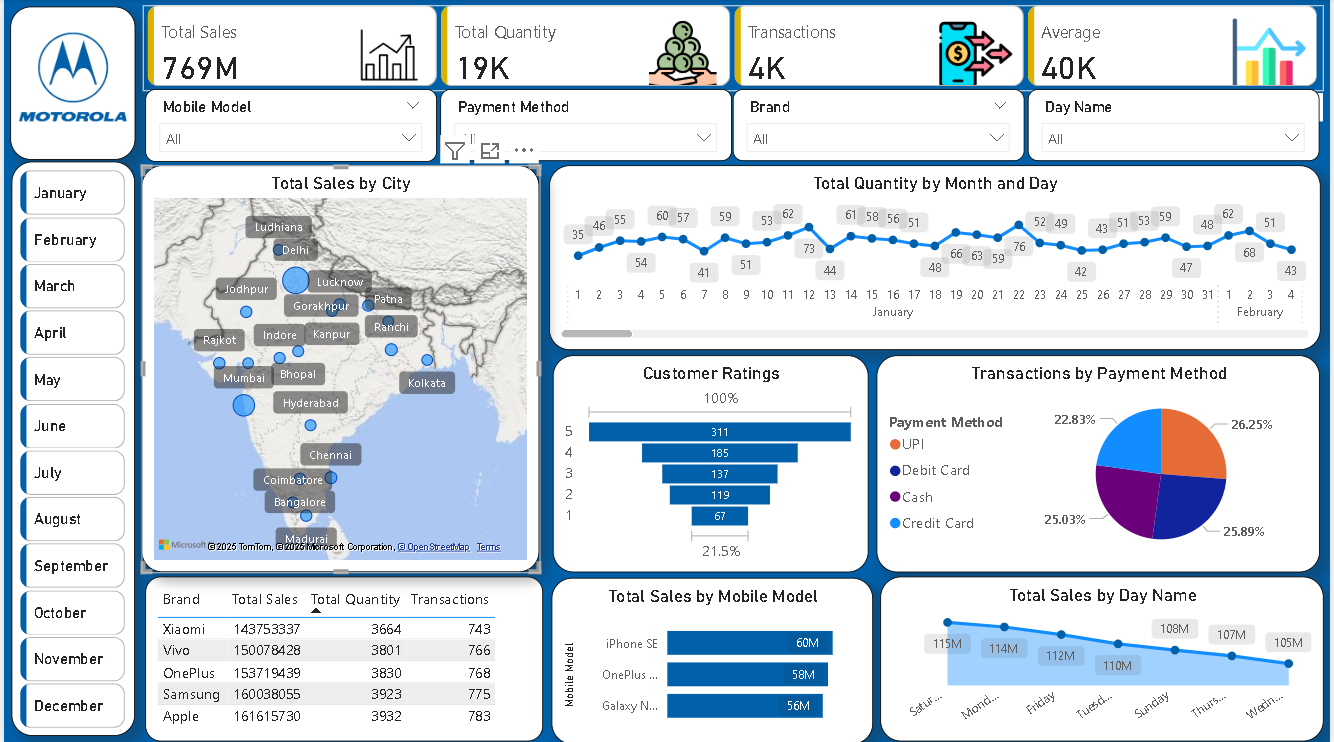

What the dashboard file says about the page in this screenshot:
{"tool":"powerbi","page":{"name":"Page 1","canvas":[1280,720],"ordinal":0},"visuals":[{"type":"shape","box":[5.5,6.9,120.8,148.2],"z":0},{"type":"image","box":[9.6,16.5,113.9,116.6],"z":1000},{"type":"shape","box":[6.9,156.4,119.4,554.4],"z":2000},{"type":"advancedSlicerVisual","fields":{"Values":["Sales_Data.Date.Variation.Date Hierarchy.Month"]},"box":[11,160.5,111.1,548.9],"z":3000},{"type":"cardVisual","fields":{"Data":["Sales_Data.Total Sales","Sales_Data.Total Quantity","Sales_Data.Transactions","Sales_Data.Average"]},"box":[134,5.6,1140.1,83.7],"z":4000},{"type":"map","fields":{"Category":["Sales_Data.City"],"Size":["Sales_Data.Total Sales"]},"box":[132.9,160.8,384.1,393.1],"z":5000},{"type":"lineChart","fields":{"Y":["Sales_Data.Total Quantity"],"Category":["Sales_Data.Date.Variation.Date Hierarchy.Month","Sales_Data.Date.Variation.Date Hierarchy.Day"]},"box":[525.9,160.8,744.8,178.7],"z":6000},{"type":"clusteredBarChart","fields":{"Category":["Sales_Data.Mobile Model"],"Y":["Sales_Data.Total Sales"]},"box":[528.3,558.5,310.1,160.5],"z":7000},{"type":"pieChart","fields":{"Category":["Sales_Data.Payment Method"],"Y":["Sales_Data.Transactions"]},"box":[842.5,344.4,428.1,209.9],"z":8000},{"type":"funnel","title":"Customer Ratings","fields":{"Category":["Sales_Data.Customer Ratings"],"Y":["Sum(Sales_Data.Customer Ratings)"]},"box":[529.7,344.4,304.6,209.9],"z":9000},{"type":"areaChart","fields":{"Category":["Sales_Data.Day Name"],"Y":["Sales_Data.Total Sales"]},"box":[845.3,557.1,428.1,159.2],"z":10000},{"type":"tableEx","fields":{"Values":["Sales_Data.Brand","Sales_Data.Total Sales","Sales_Data.Total Quantity","Sales_Data.Transactions"]},"box":[135.8,557.1,384.2,159.2],"z":11000},{"type":"slicer","fields":{"Values":["Sales_Data.Mobile Model"]},"box":[136.2,87.1,281.4,70.3],"z":12000},{"type":"slicer","fields":{"Values":["Sales_Data.Payment Method"]},"box":[421,87.1,281.4,69.2],"z":13000},{"type":"slicer","fields":{"Values":["Sales_Data.Brand"]},"box":[703.5,87.1,281.4,69.2],"z":14000},{"type":"slicer","fields":{"Values":["Sales_Data.Day Name"]},"box":[988.2,87.1,281.4,69.2],"z":15000}]}

Visuals, with their boxes in screenshot pixels (x1, y1, x2, y2), scaled from the page's 1280x720 canvas onto the 1334x742 screenshot:
shape: Rect(6, 7, 132, 160)
image: Rect(10, 17, 129, 137)
shape: Rect(7, 161, 132, 733)
advancedSlicerVisual - Sales_Data.Date.Variation.Date Hierarchy.Month: Rect(11, 165, 127, 731)
cardVisual - Sales_Data.Total Sales x Sales_Data.Total Quantity: Rect(140, 6, 1328, 92)
map - Sales_Data.City x Sales_Data.Total Sales: Rect(139, 166, 539, 571)
lineChart - Sales_Data.Total Quantity x Sales_Data.Date.Variation.Date Hierarchy.Month: Rect(548, 166, 1324, 350)
clusteredBarChart - Sales_Data.Mobile Model x Sales_Data.Total Sales: Rect(551, 576, 874, 741)
pieChart - Sales_Data.Payment Method x Sales_Data.Transactions: Rect(878, 355, 1324, 571)
"Customer Ratings" funnel: Rect(552, 355, 869, 571)
areaChart - Sales_Data.Day Name x Sales_Data.Total Sales: Rect(881, 574, 1327, 738)
tableEx - Sales_Data.Brand x Sales_Data.Total Sales: Rect(142, 574, 542, 738)
slicer - Sales_Data.Mobile Model: Rect(142, 90, 435, 162)
slicer - Sales_Data.Payment Method: Rect(439, 90, 732, 161)
slicer - Sales_Data.Brand: Rect(733, 90, 1026, 161)
slicer - Sales_Data.Day Name: Rect(1030, 90, 1323, 161)
